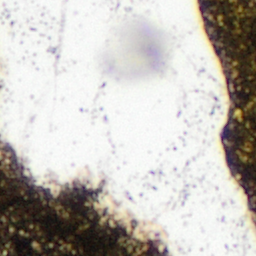cement_matrix: (0, 149, 165, 255), (200, 0, 255, 215)
gravel_crushed_stones: (0, 0, 255, 255)
